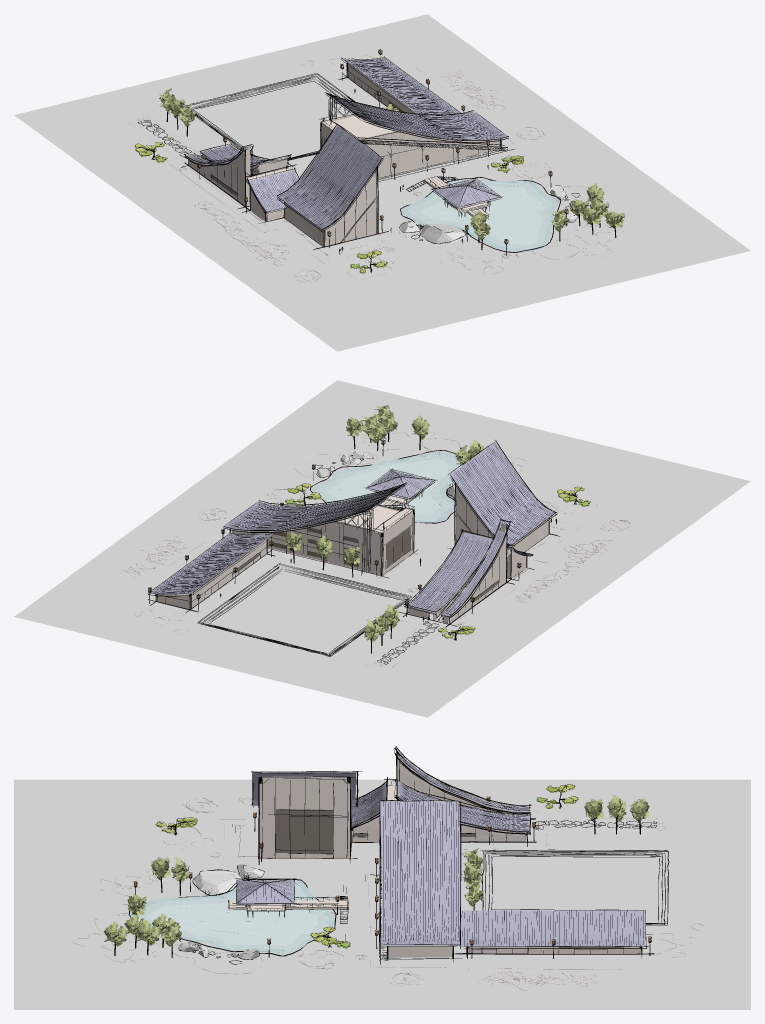
The picture shows the model from 3 angles, top to bottom: view 1: azimuth 30°, elevation 25°; view 2: azimuth 150°, elevation 25°; view 3: azimuth 270°, elevation 25°; orthographic projection. The views are drawn at different scales.
Parts seen in each view (by area): view 1: Plane, group_11; view 2: Plane, group_11; view 3: Plane, group_11.
Part boxes in pixels (box(x1,y1,x2,y2)): Plane: box(14, 14, 750, 351); group_11: box(129, 49, 624, 282); Plane: box(14, 380, 750, 717); group_11: box(119, 405, 630, 667); Plane: box(14, 779, 750, 1009); group_11: box(72, 746, 704, 990).
Size of the model in its own units: 53.04 by 10.31 by 71.76.
